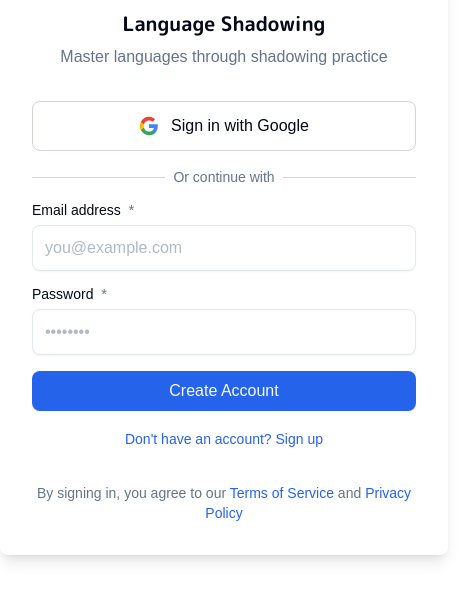
SignInPage - Sign Up Flow › Email Sign Up › should display error message on sign up failure
Click the link "Don't have an account? Sign up". click: (224, 439)
box: [125,431,323,447]
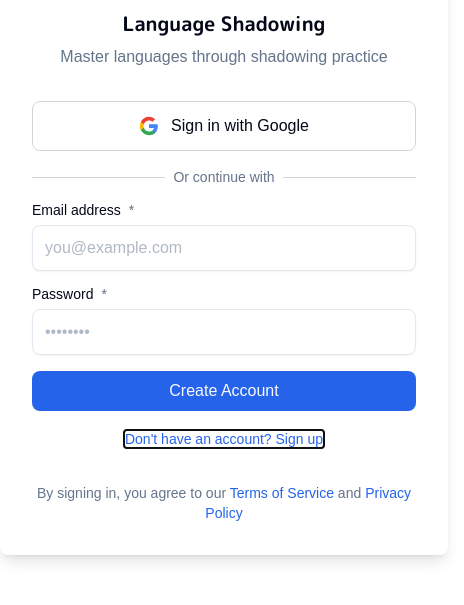
Type "test@example.com" into the field labelled "Email address *". click: (224, 248)
box: [32,225,416,271]
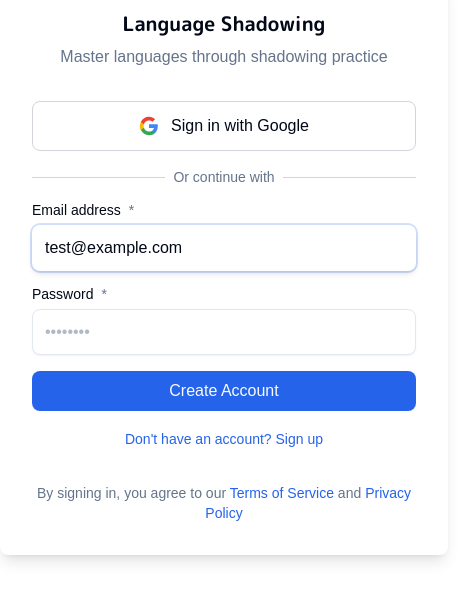
Type "password123" into the password field labelled "Password *". click: (224, 332)
box: [32,309,416,355]
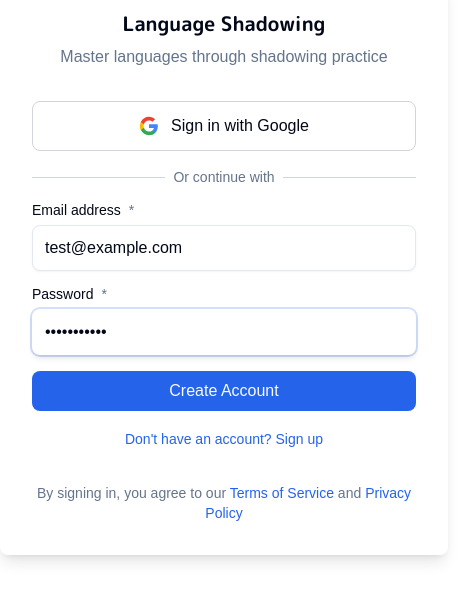
Click the button "Create Account". click: (224, 391)
box: [32,371,416,411]
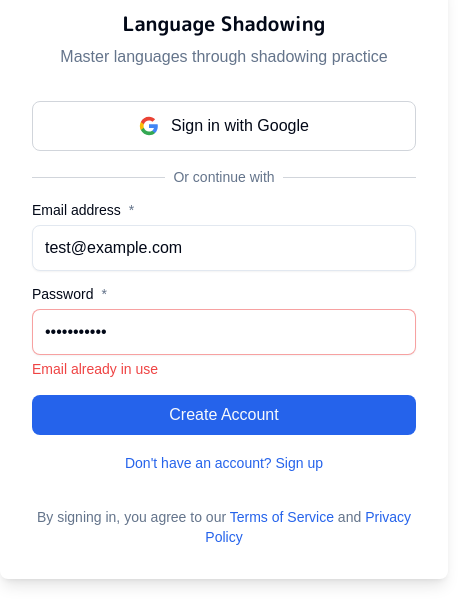
Now the text "Email already in use" is shown, box [32,361,158,377]
